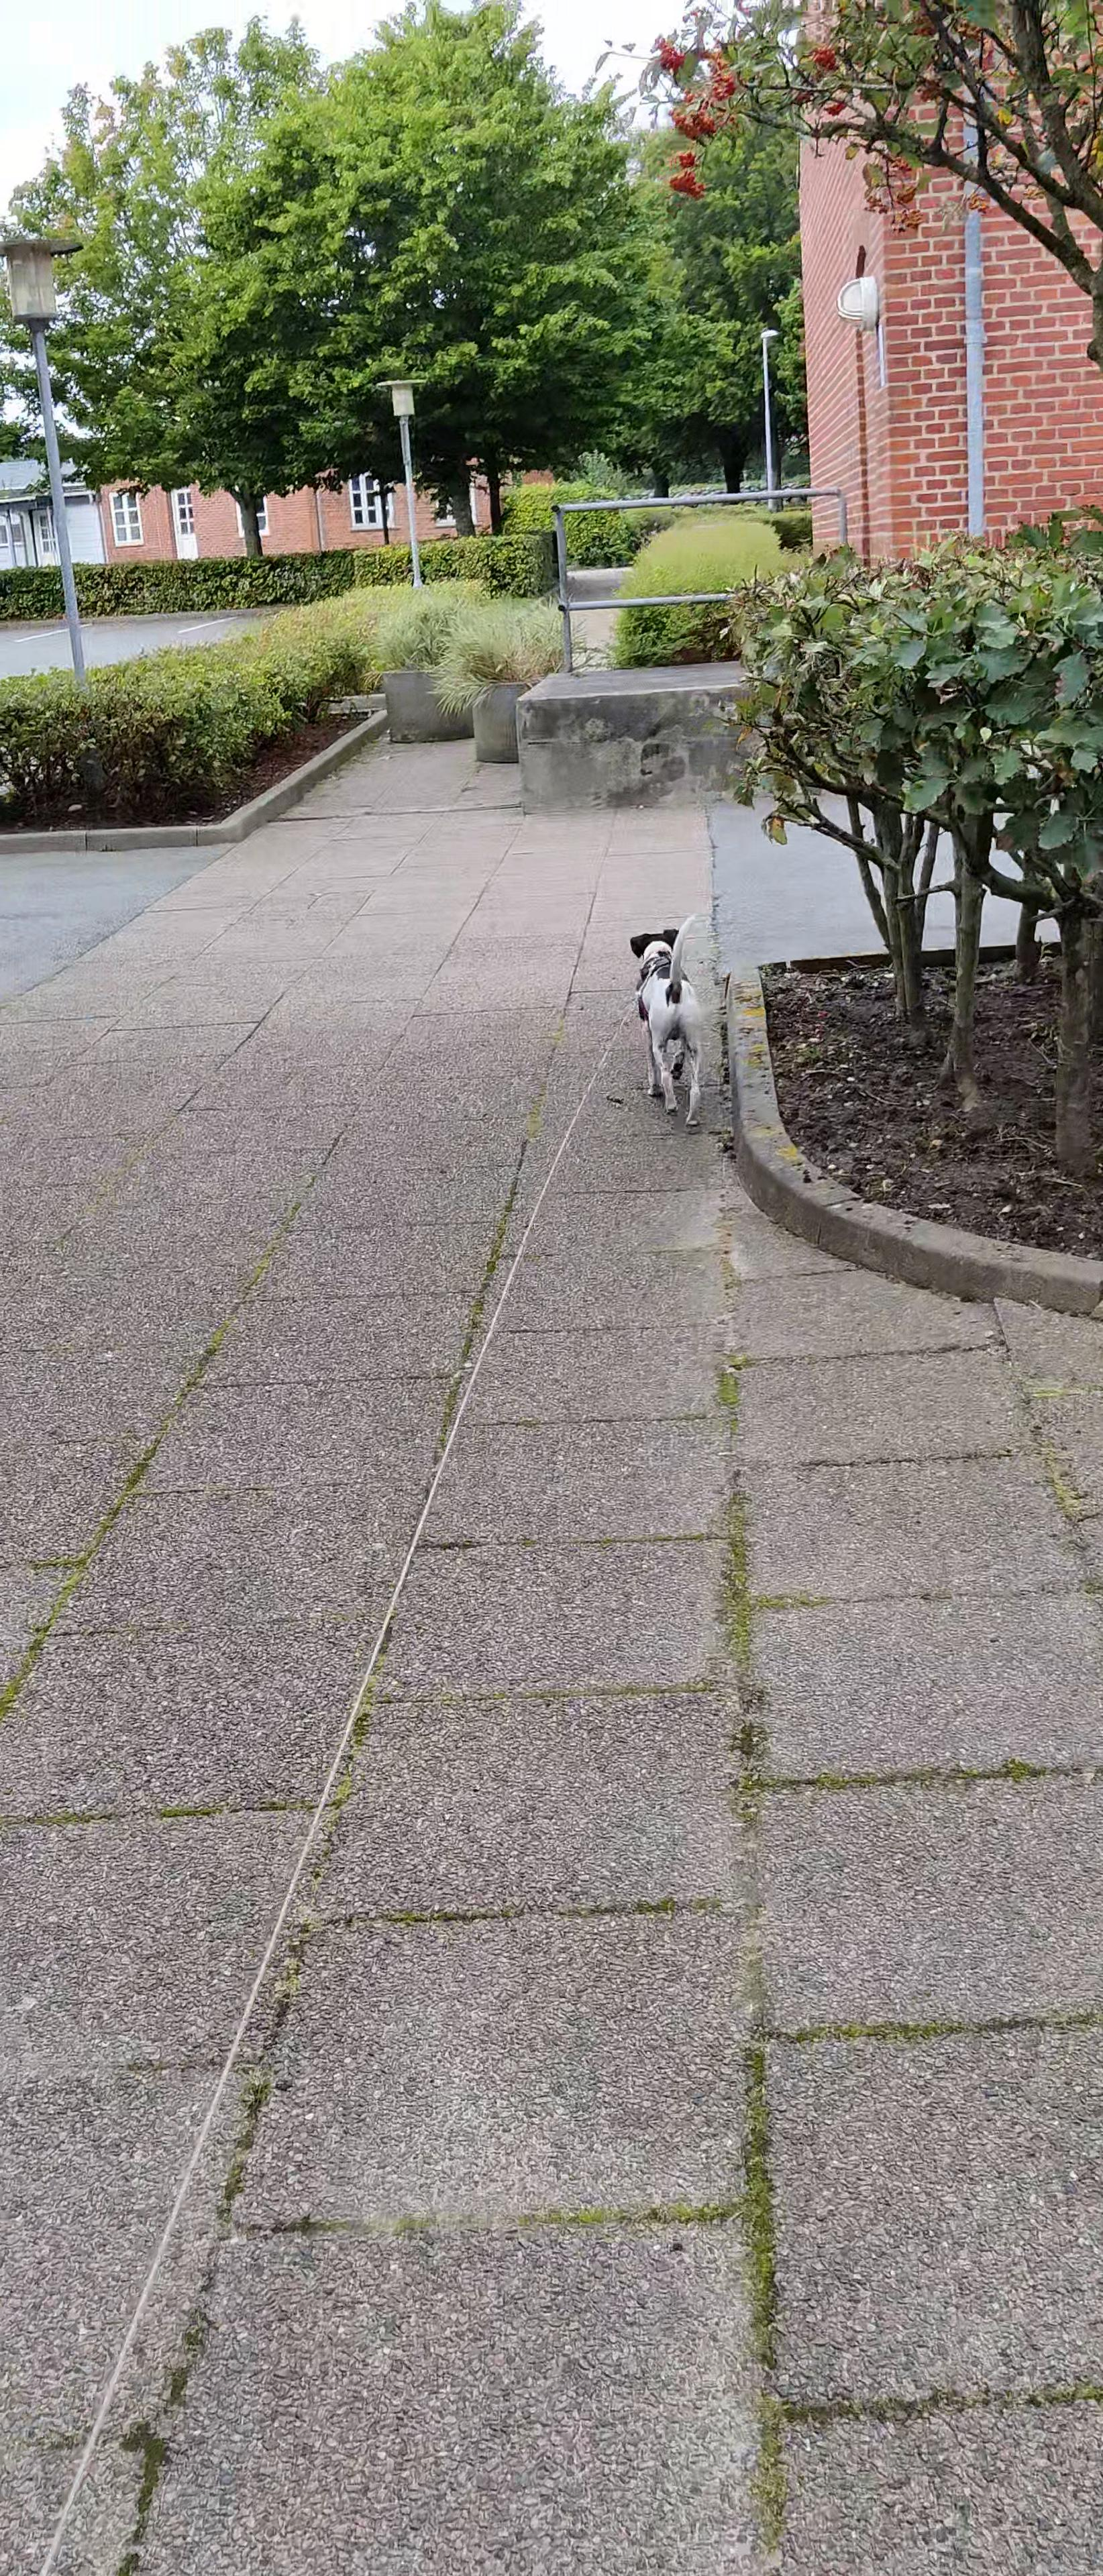Dog: (625, 904, 712, 1130)
